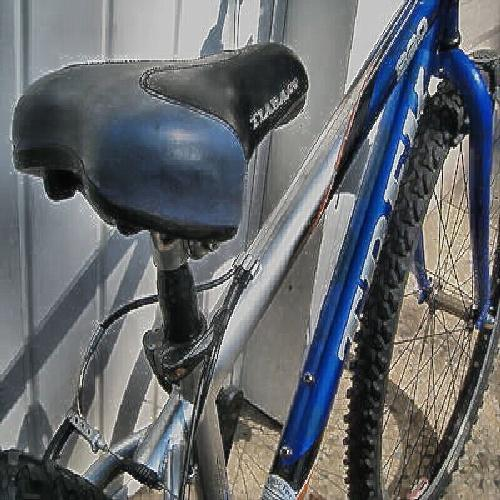bicycle: (31, 62, 484, 461)
